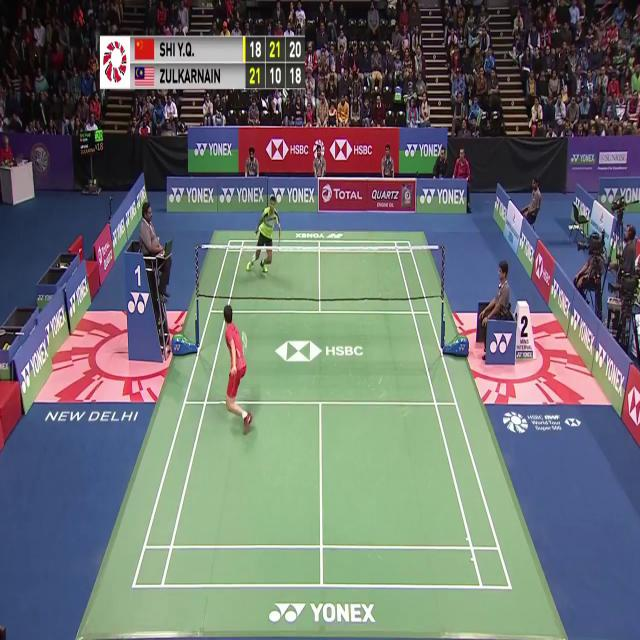Shuttlecock: (251, 250, 257, 262)
